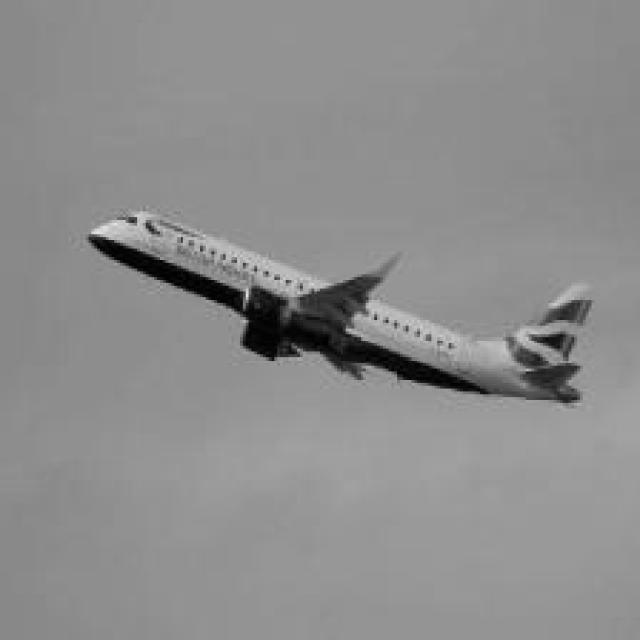aeroplane: (75, 197, 596, 406)
